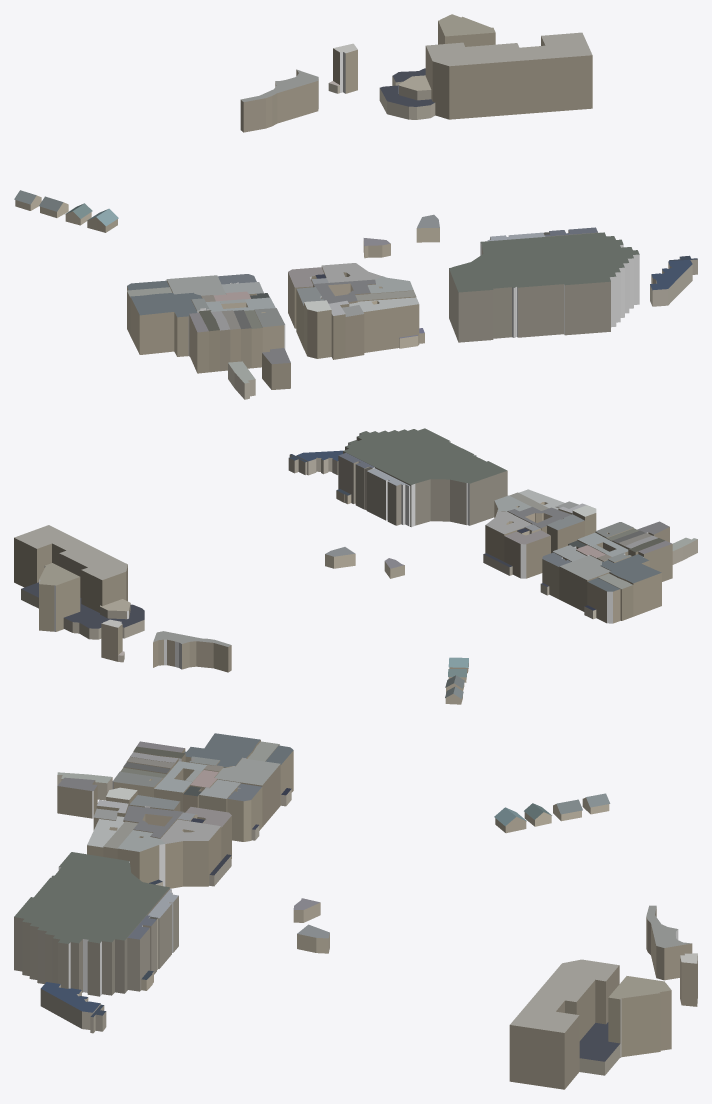
3 views of the same model, one above another, from view 1: azimuth 30°, elevation 25°; view 2: azimuth 150°, elevation 25°; view 3: azimuth 270°, elevation 25° (orthographic). The views are drawn at different scales.
Visible parts, largest first — view 1: tuile; view 2: tuile; view 3: tuile.
Part boxes in pixels (bbox=[...]): tuile: bbox=[14, 14, 697, 399]; tuile: bbox=[14, 428, 697, 704]; tuile: bbox=[14, 733, 697, 1089].
Bounding box in the file's own units: 298 × 27.07 × 274.
